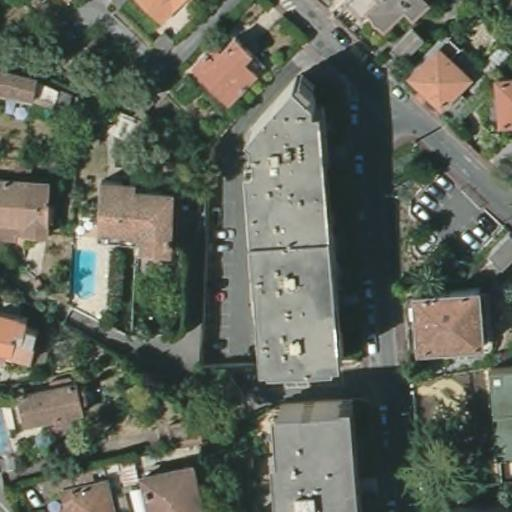pool: (70, 244, 101, 301)
